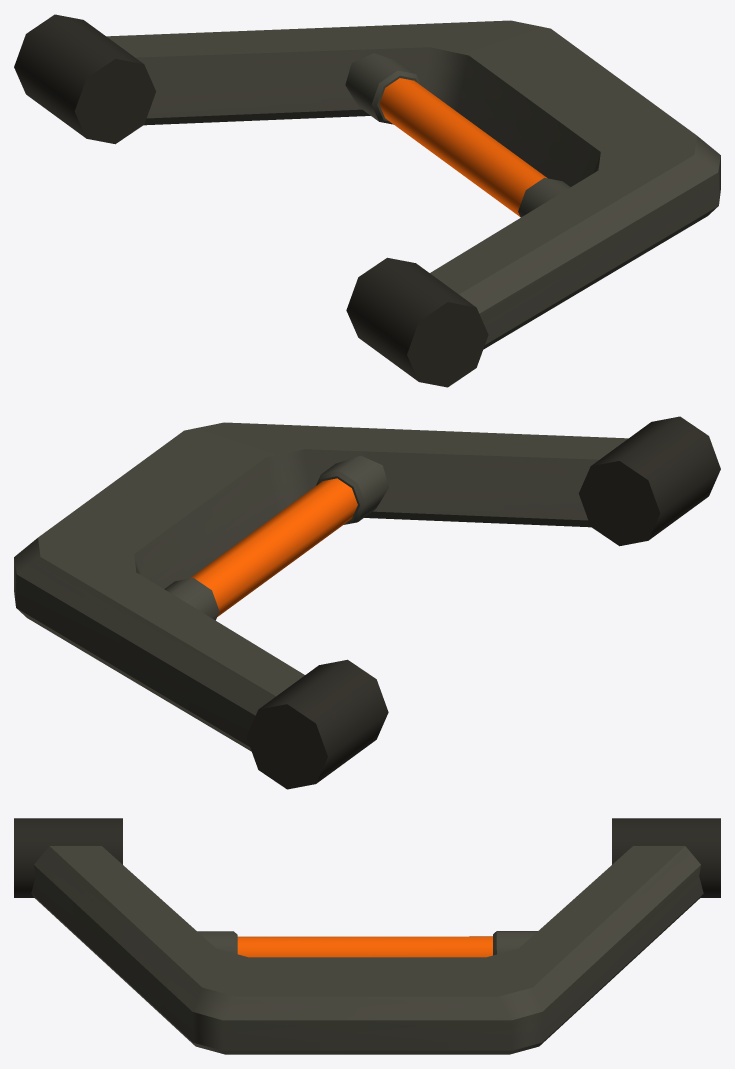
The model's file is Container_02_Cap_Handle_01.fbx.
3 renders of one model, top to bottom at view 1: azimuth 30°, elevation 25°; view 2: azimuth 150°, elevation 25°; view 3: azimuth 270°, elevation 25°, orthographic. The views are drawn at different scales.
Parts seen in each view (by area): view 1: Container_02_Cap_Handle_01; view 2: Container_02_Cap_Handle_01; view 3: Container_02_Cap_Handle_01.
Part boxes in pixels (bbox=[...]): Container_02_Cap_Handle_01: bbox=[14, 14, 720, 387]; Container_02_Cap_Handle_01: bbox=[14, 416, 720, 789]; Container_02_Cap_Handle_01: bbox=[14, 818, 720, 1054].
Size of the model in its own units: 17.91 by 3.4 by 28.34.
